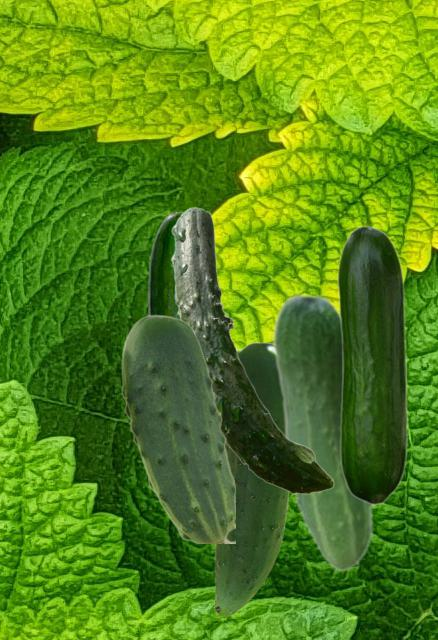cucumber: (170, 207, 333, 493), (272, 292, 374, 571), (121, 314, 234, 542), (214, 342, 289, 615), (337, 225, 407, 504), (148, 212, 182, 317)
